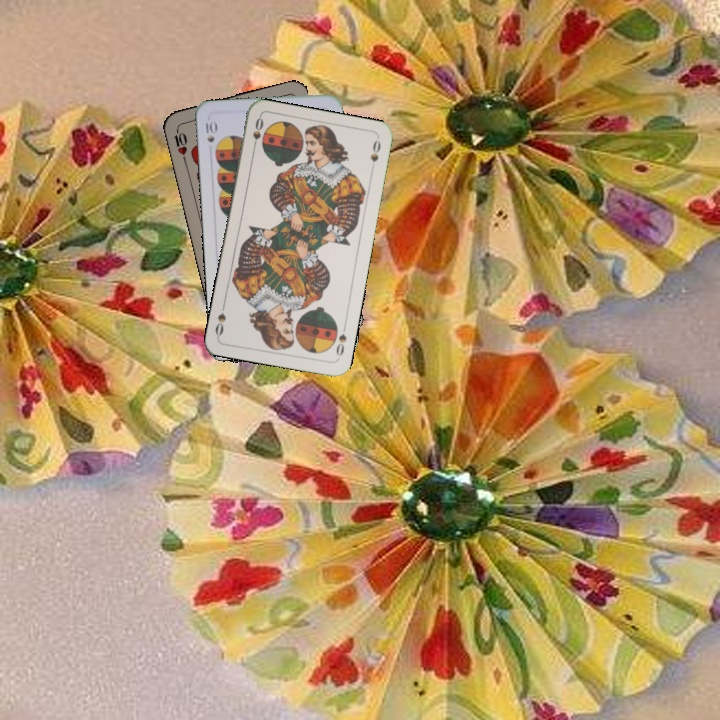H10: (169, 124, 190, 164)
S10: (201, 116, 219, 145)
SO: (249, 114, 266, 154), (332, 321, 349, 361)
